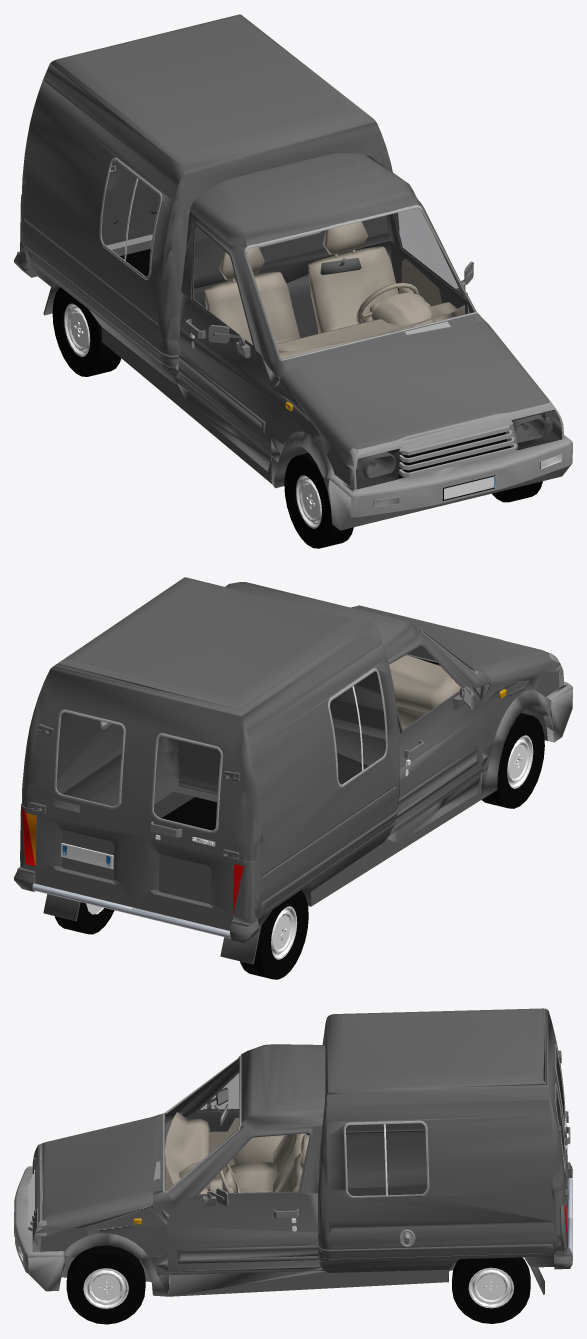
3 renders of one model, top to bottom at view 1: azimuth 30°, elevation 25°; view 2: azimuth 150°, elevation 25°; view 3: azimuth 270°, elevation 25°, orthographic. The views are drawn at different scales.
Parts seen in each view (by area): view 1: body, wheel_fr, wheel_br; view 2: body, wheel_fr, wheel_br, wheel_bl; view 3: body, wheel_fl, wheel_bl.
Part boxes in pixels (bbox=[...]): body: bbox=[14, 14, 572, 530]; wheel_fr: bbox=[284, 453, 353, 548]; wheel_br: bbox=[52, 287, 121, 376]; body: bbox=[14, 577, 572, 964]; wheel_fr: bbox=[482, 713, 544, 808]; wheel_br: bbox=[240, 890, 308, 979]; wheel_bl: bbox=[54, 902, 114, 934]; body: bbox=[14, 1008, 572, 1296]; wheel_fl: bbox=[66, 1245, 145, 1324]; wheel_bl: bbox=[452, 1257, 530, 1323].
Bounding box in the file's own units: 1.75 × 1.84 × 3.88.
24 materials, 2 textured.
